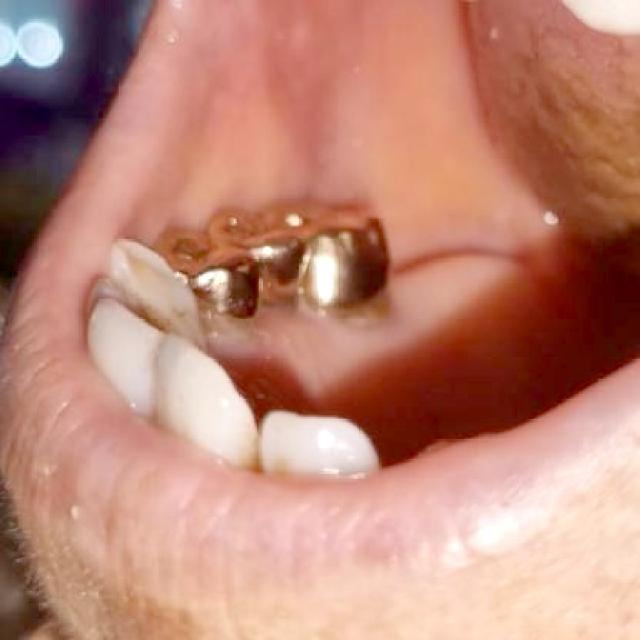Plaque: (211, 287, 414, 353)
